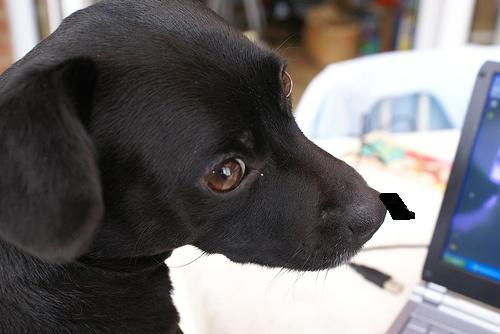tampered: (380, 194, 415, 220)
